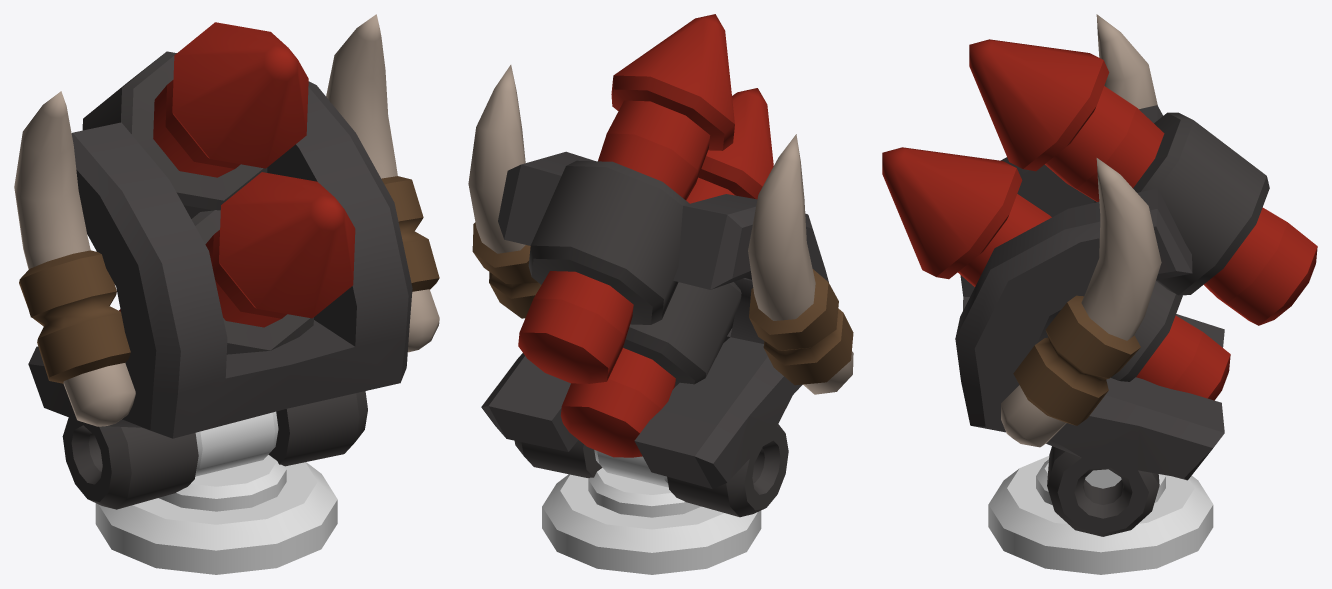
Rendered from Pierser_t_1_LP.fbx.
The picture shows the model from 3 angles, left to right: view 1: azimuth 30°, elevation 25°; view 2: azimuth 150°, elevation 25°; view 3: azimuth 270°, elevation 25°; orthographic projection. The views are drawn at different scales.
Parts seen in each view (by area): view 1: Pierser_t_1, Pierser_t_1_Base; view 2: Pierser_t_1, Pierser_t_1_Base; view 3: Pierser_t_1, Pierser_t_1_Base.
Boxes of the visible parts, <box> form: Pierser_t_1: <box>14,14,439,509</box>; Pierser_t_1_Base: <box>95,411,337,574</box>; Pierser_t_1: <box>468,14,853,517</box>; Pierser_t_1_Base: <box>542,450,761,574</box>; Pierser_t_1: <box>882,14,1317,536</box>; Pierser_t_1_Base: <box>988,456,1213,574</box>.
Bounding box in the file's own units: 110 × 140 × 114.
